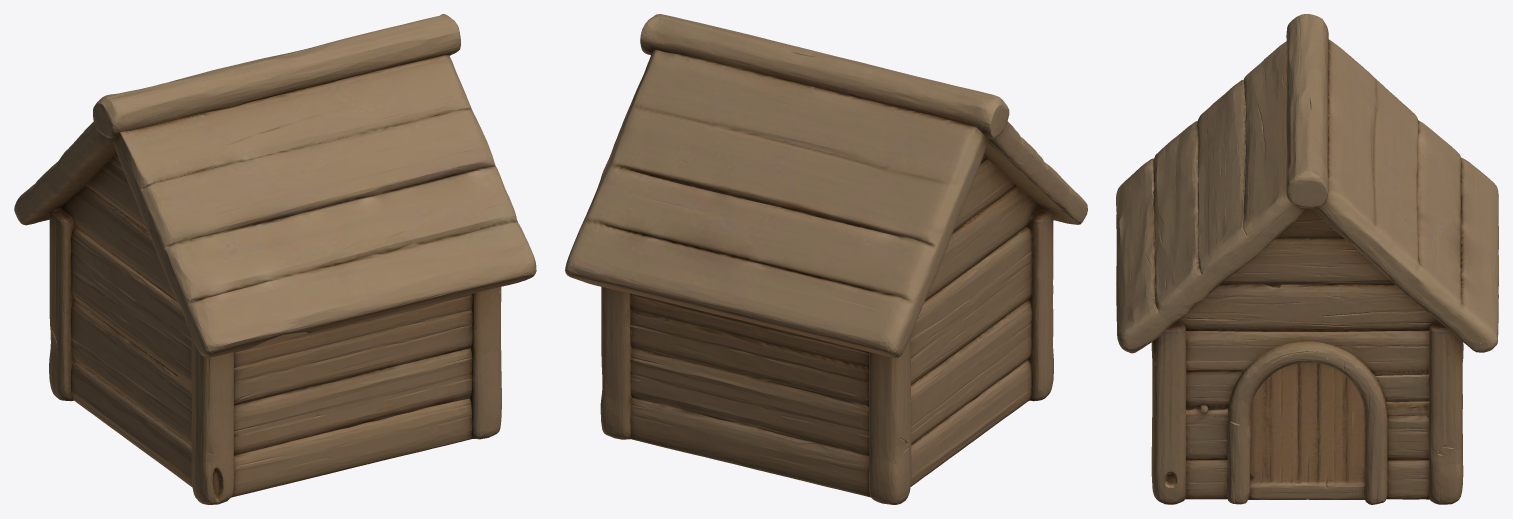
Rendered from DOM_budka_1__soso.glb.
3 views of the same model, side by side, from view 1: azimuth 30°, elevation 25°; view 2: azimuth 150°, elevation 25°; view 3: azimuth 270°, elevation 25° (orthographic). The views are drawn at different scales.
Parts seen in each view (by area): view 1: tripo_node_ba9dd757-150f-43b7-807c-a73a608afcca; view 2: tripo_node_ba9dd757-150f-43b7-807c-a73a608afcca; view 3: tripo_node_ba9dd757-150f-43b7-807c-a73a608afcca.
Part boxes in pixels (left/top/right/bottom): tripo_node_ba9dd757-150f-43b7-807c-a73a608afcca: left=14, top=14, right=536, bottom=504; tripo_node_ba9dd757-150f-43b7-807c-a73a608afcca: left=565, top=14, right=1087, bottom=504; tripo_node_ba9dd757-150f-43b7-807c-a73a608afcca: left=1116, top=14, right=1498, bottom=504.
Bounding box in the file's own units: 1 × 0.9777 × 0.9836.
1 material, 1 textured.
